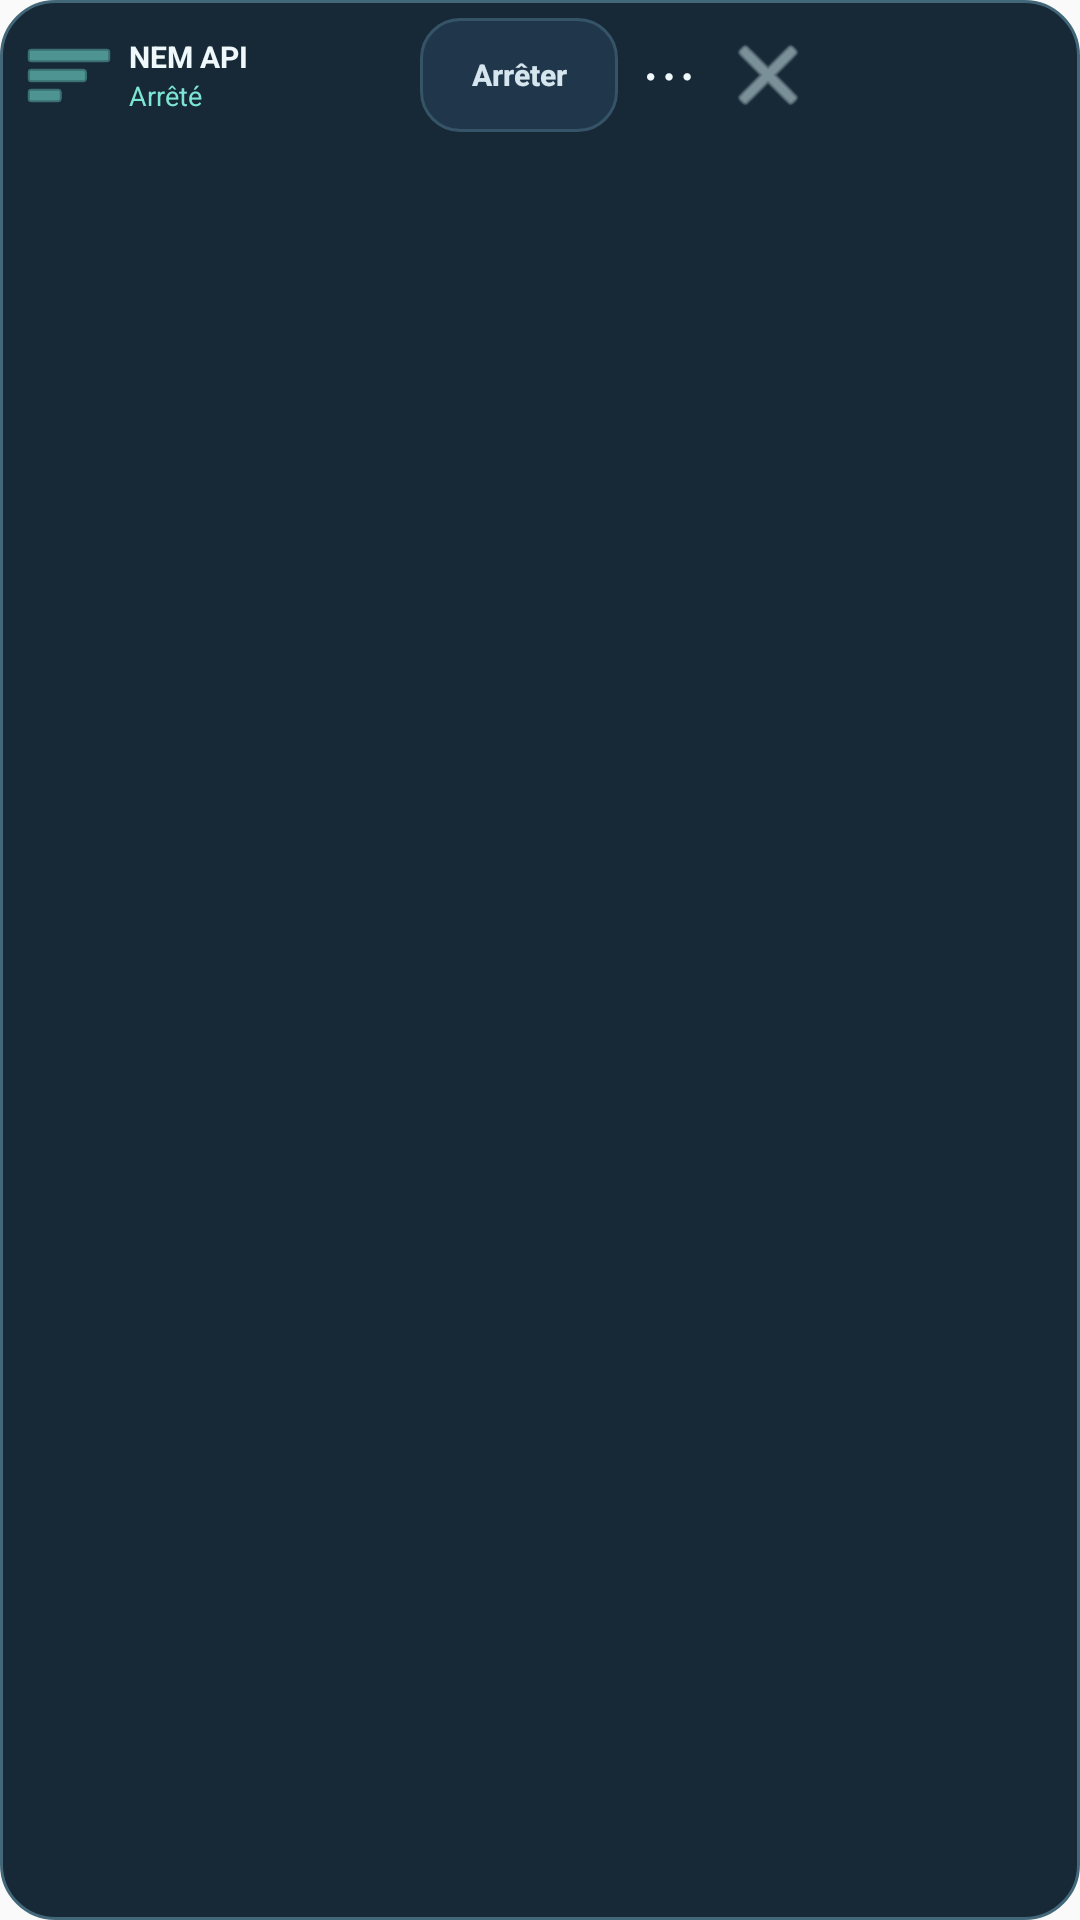

Icon click points for this 1080w x 1920h phone screenshot, format [x,y]:
Fermer NemApiBridge: [768,75]
